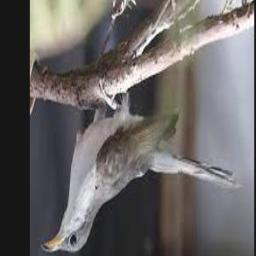Cuckoo: (41, 80, 242, 254)
